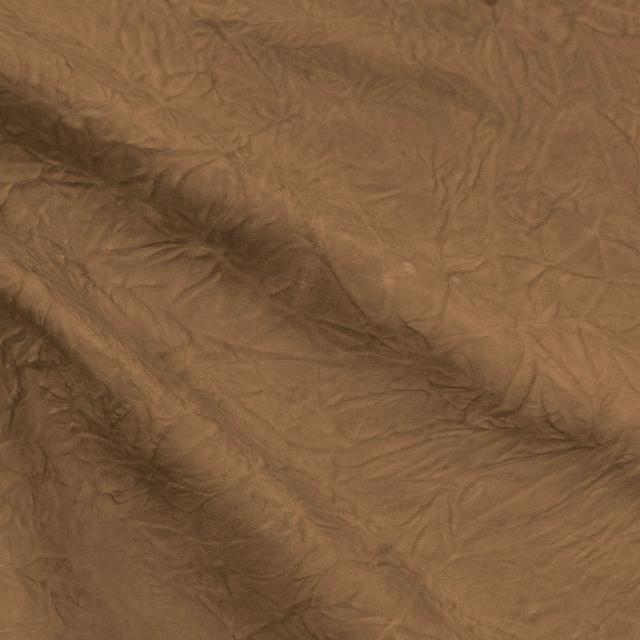Crease: (166, 428, 382, 594), (36, 60, 209, 185)
